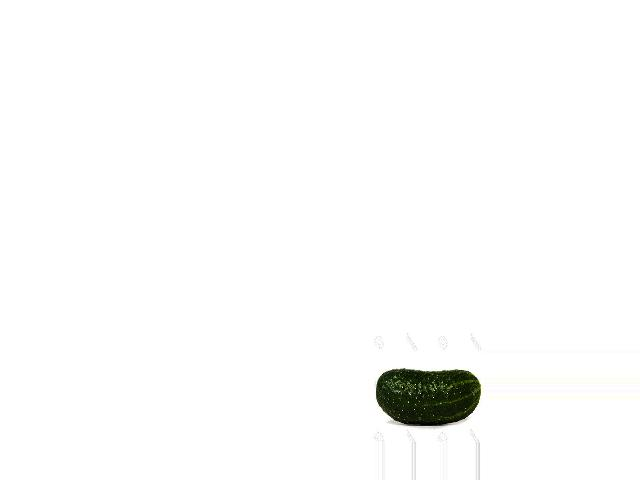cucumber: (375, 370, 480, 425)
